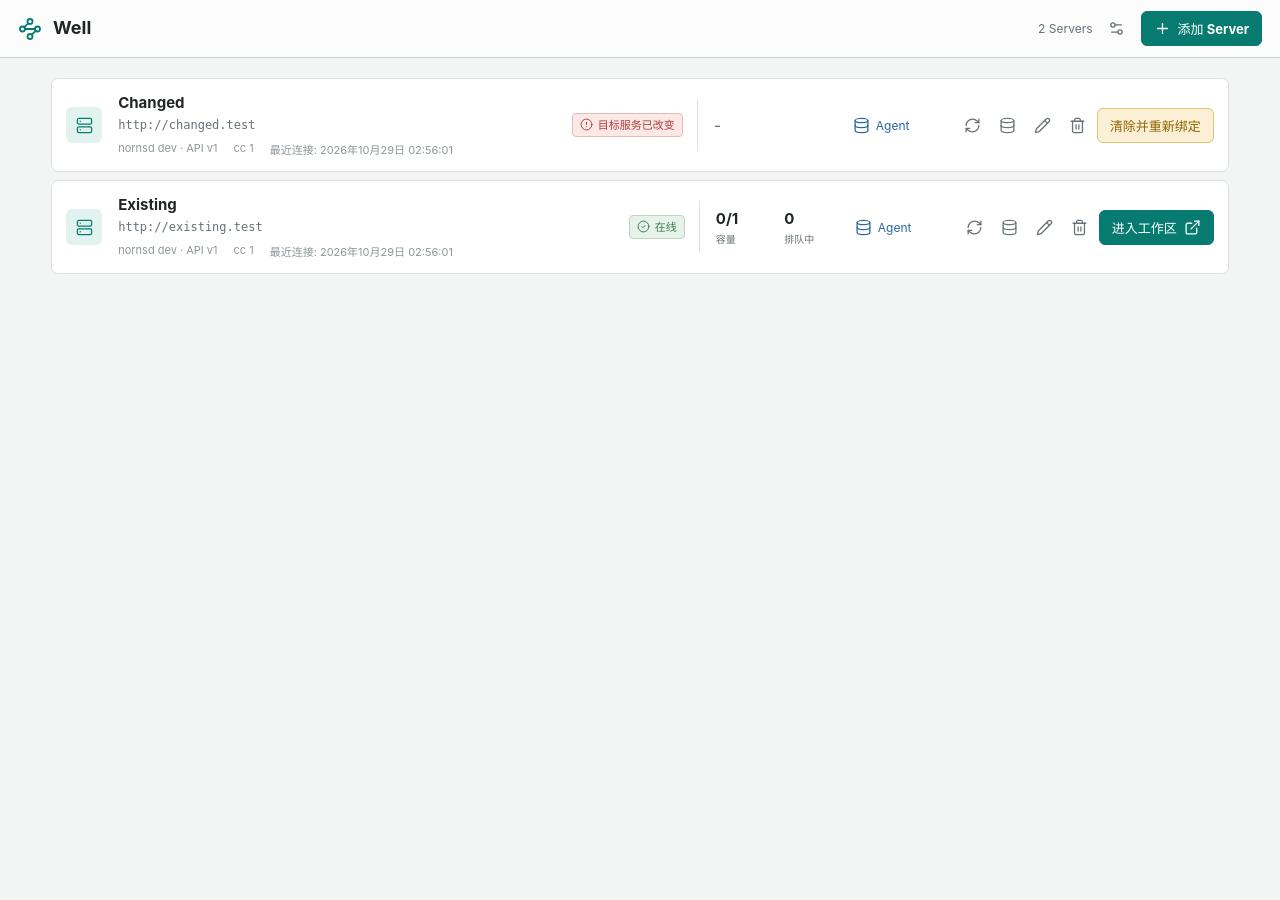
Test: rebinds a changed target when another record already uses the same root
What coordinates should you click on to do the following:
click the button "清除并重新绑定"
I would click on:
 (1155, 125)
Its box is [1097,108,1214,142].
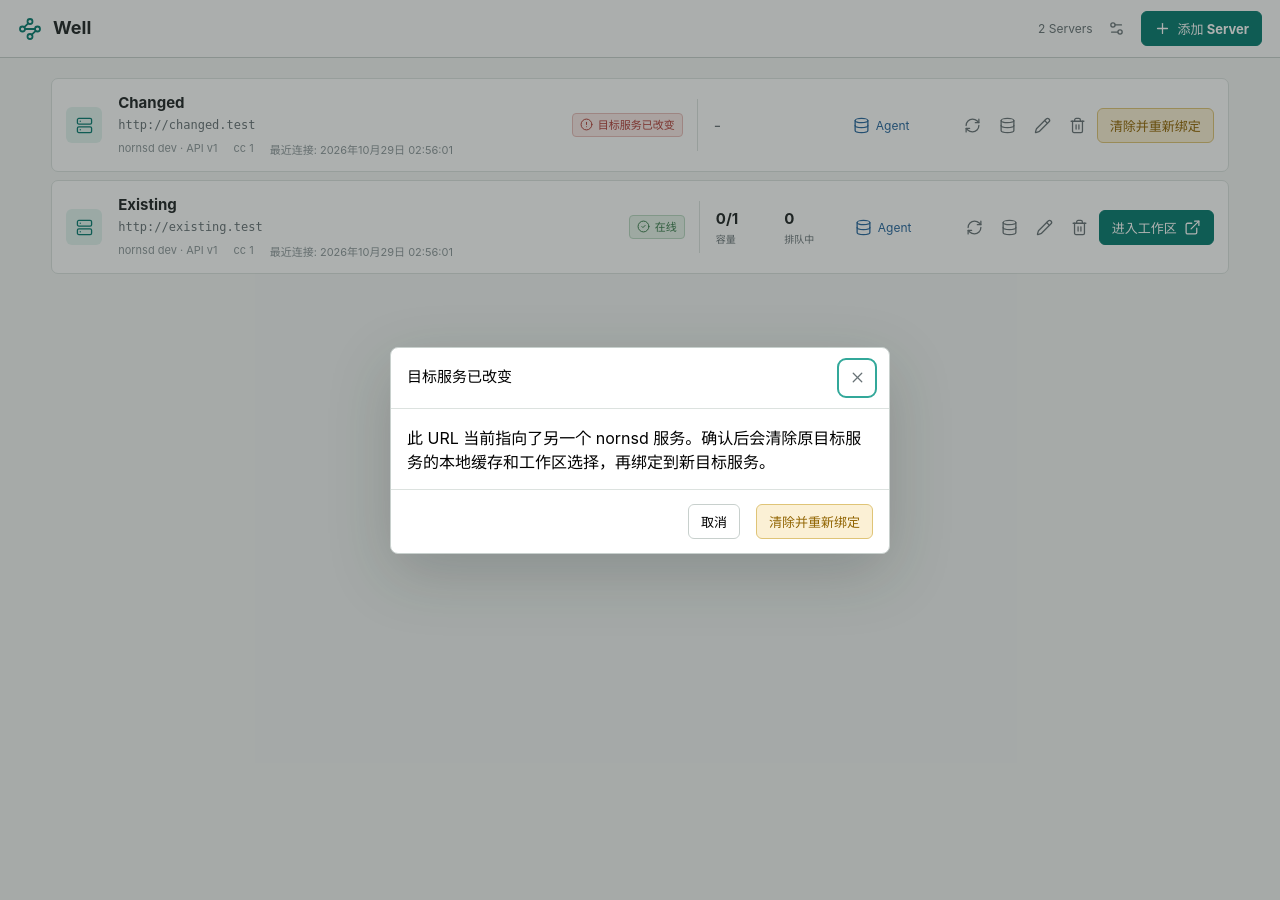
What coordinates should you click on to do the following:
click the button "清除并重新绑定"
I would click on:
 (814, 521)
Its box is [756,504,873,538].
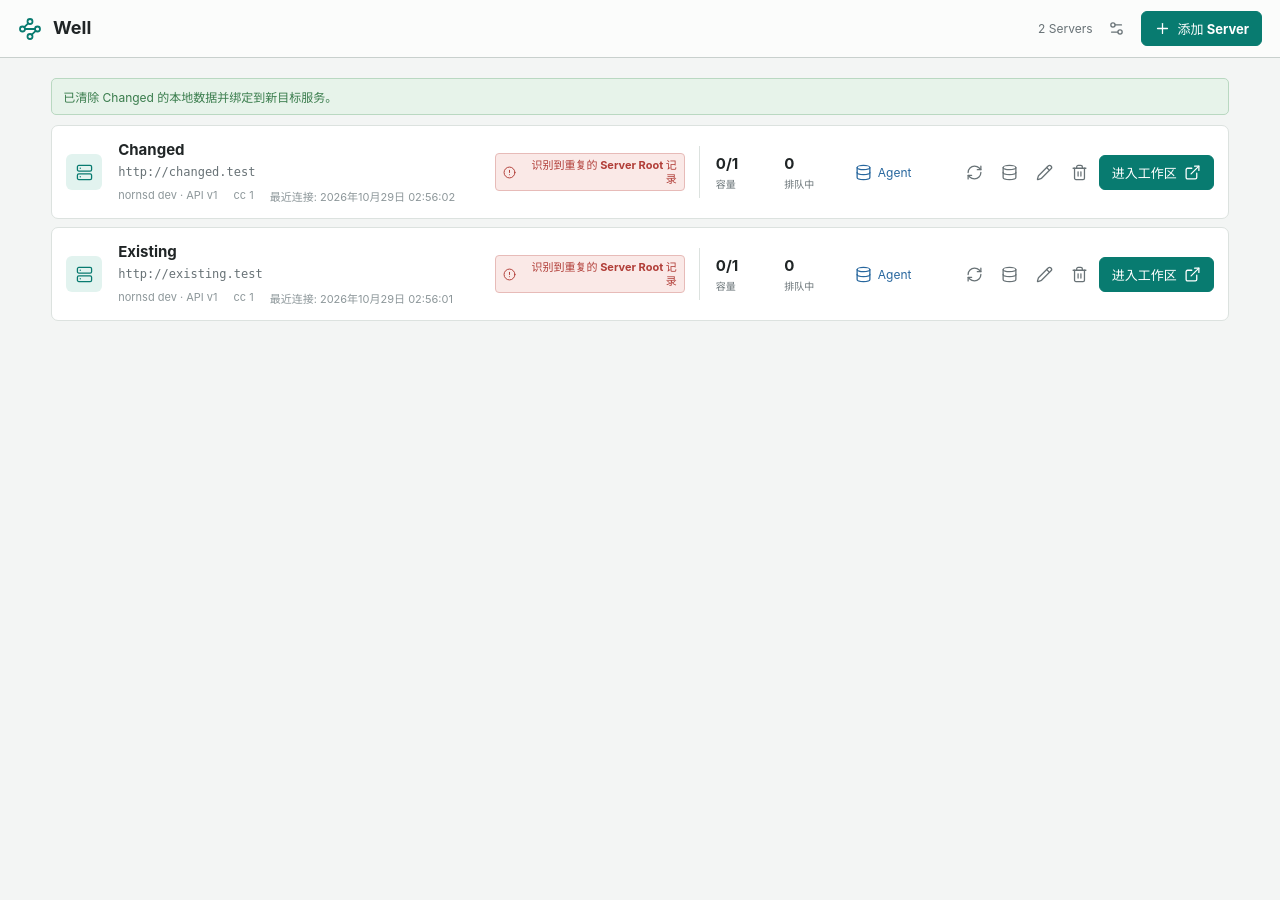
Result: the message reads "已清除 Changed 的本地数据并绑定到新目标服务。" at [63,90,337,105]
